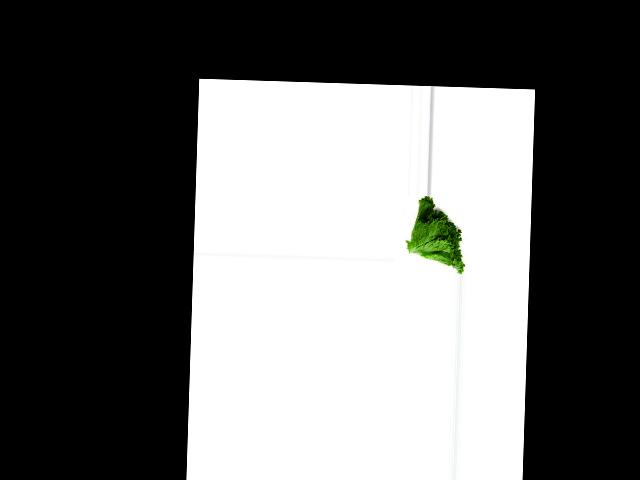lettuce: (406, 194, 468, 274)
